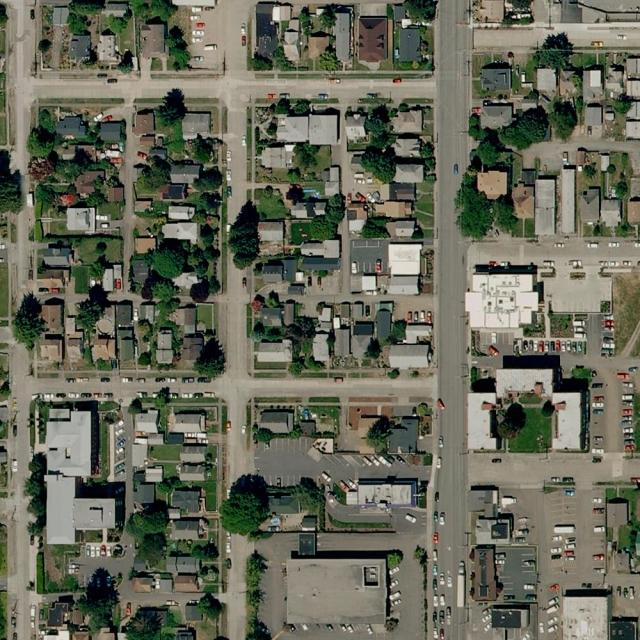building: (286, 551, 393, 624), (465, 265, 539, 329), (45, 411, 91, 477), (256, 1, 302, 63), (312, 305, 350, 367), (45, 473, 77, 544), (364, 182, 418, 220), (467, 392, 498, 450), (551, 392, 581, 450), (496, 369, 552, 398), (471, 544, 498, 601), (70, 162, 110, 200), (74, 499, 117, 531), (359, 16, 388, 62), (358, 483, 414, 506), (387, 415, 419, 455), (475, 513, 515, 545), (535, 179, 556, 235), (467, 485, 500, 517), (180, 444, 208, 481), (257, 408, 295, 435), (389, 343, 430, 368), (479, 101, 514, 129), (560, 169, 575, 234), (276, 115, 310, 143), (351, 320, 374, 360), (477, 170, 508, 199), (582, 65, 605, 103), (181, 111, 211, 140), (309, 114, 338, 144), (158, 573, 201, 593), (37, 267, 70, 293), (256, 340, 293, 363), (140, 24, 165, 58), (171, 486, 201, 514), (481, 62, 511, 90), (161, 222, 199, 244), (41, 298, 64, 334), (604, 63, 627, 99), (346, 201, 371, 234), (374, 300, 394, 341), (399, 26, 421, 62), (261, 145, 294, 168), (171, 307, 199, 334), (66, 207, 96, 232), (335, 12, 350, 62), (56, 116, 88, 139), (580, 189, 601, 223), (392, 110, 423, 133), (64, 331, 86, 363), (156, 328, 175, 365), (606, 498, 629, 528), (170, 163, 201, 185), (181, 333, 205, 361), (307, 31, 331, 59), (344, 113, 368, 141), (404, 321, 433, 344), (600, 199, 623, 228), (116, 326, 135, 361), (42, 246, 73, 267), (171, 414, 205, 433), (387, 274, 419, 294), (47, 600, 69, 629), (170, 519, 200, 540), (389, 244, 422, 263), (97, 34, 118, 63), (39, 335, 61, 362), (611, 618, 638, 640), (536, 66, 558, 93), (386, 219, 417, 238), (166, 556, 200, 573), (394, 164, 424, 183), (491, 609, 521, 628), (135, 410, 159, 433), (69, 35, 90, 61), (89, 337, 110, 363), (257, 221, 284, 241), (394, 137, 421, 157), (134, 110, 155, 135), (181, 598, 202, 623), (132, 482, 155, 504), (324, 166, 340, 196), (101, 0, 129, 17), (115, 300, 133, 326), (100, 121, 122, 142), (167, 204, 195, 220), (162, 183, 188, 200), (131, 260, 149, 284), (389, 261, 419, 275), (134, 236, 157, 254), (132, 575, 155, 593), (132, 444, 149, 468), (260, 308, 282, 326), (138, 300, 155, 323), (585, 104, 602, 126), (51, 6, 69, 26), (137, 133, 157, 150), (628, 198, 640, 225), (145, 466, 164, 483), (49, 407, 71, 421), (625, 57, 640, 77), (284, 300, 296, 324), (626, 79, 640, 99), (361, 275, 378, 291), (107, 187, 125, 202), (102, 269, 114, 291), (166, 507, 182, 520), (394, 4, 406, 21), (200, 324, 205, 331)
greenland: (466, 99, 582, 170), (448, 164, 521, 243), (70, 566, 129, 634), (26, 147, 85, 214), (496, 395, 555, 452), (4, 290, 57, 353), (219, 474, 270, 537), (134, 266, 188, 321), (148, 237, 212, 283), (126, 501, 169, 568), (305, 187, 351, 247), (361, 105, 395, 183), (67, 281, 116, 335), (244, 551, 271, 640), (526, 42, 609, 70), (227, 200, 260, 269), (192, 334, 236, 383), (155, 89, 188, 152), (24, 452, 46, 536), (200, 213, 221, 293), (161, 24, 194, 73), (27, 108, 59, 158), (359, 144, 398, 184), (133, 312, 178, 344), (604, 485, 640, 525), (0, 150, 23, 212), (76, 237, 124, 265), (135, 158, 170, 196), (192, 590, 228, 625), (0, 4, 8, 146), (254, 186, 288, 219), (292, 483, 327, 513), (185, 135, 219, 165), (614, 517, 640, 556), (193, 166, 223, 193), (72, 147, 98, 173), (0, 261, 11, 322), (104, 14, 129, 37), (197, 192, 221, 214), (318, 4, 338, 30), (137, 351, 152, 367), (200, 194, 219, 201)
metalled_road: (506, 480, 618, 635), (35, 71, 435, 108), (317, 531, 425, 639), (1, 342, 38, 640), (251, 367, 435, 405), (221, 278, 253, 483), (34, 370, 224, 401), (473, 22, 640, 54), (225, 101, 254, 217), (220, 0, 250, 75), (8, 210, 31, 304)
